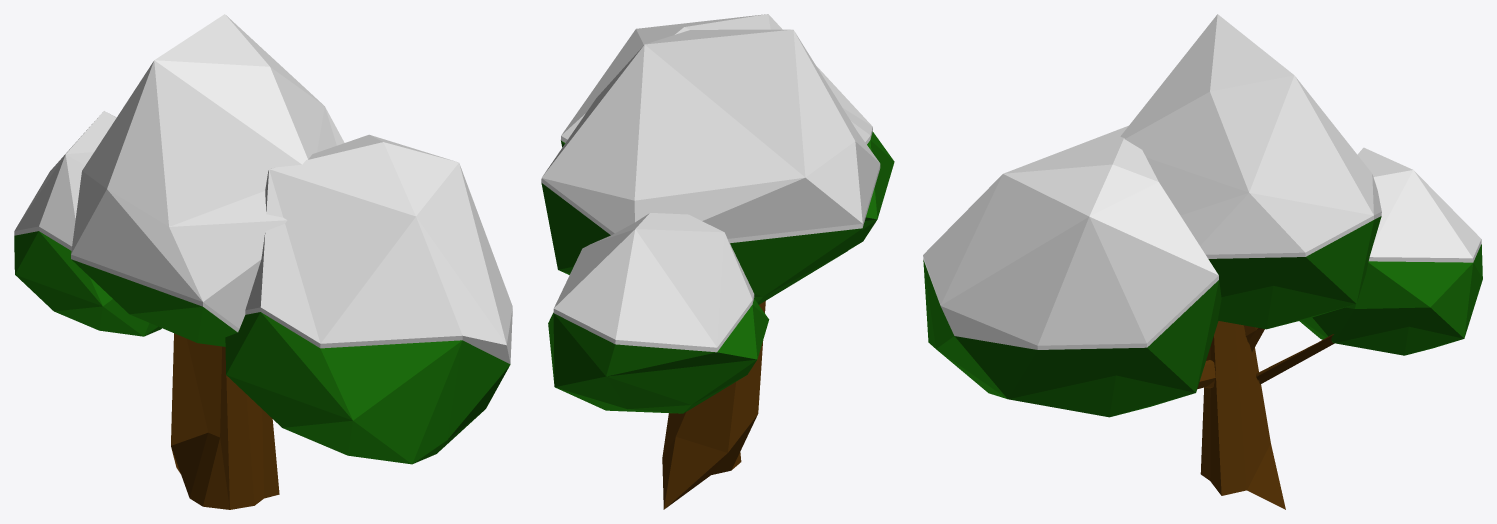
File: Bush#14_Snow.fbx
3 renders of one model, left to right at view 1: azimuth 30°, elevation 25°; view 2: azimuth 150°, elevation 25°; view 3: azimuth 270°, elevation 25°, orthographic. The views are drawn at different scales.
Visible parts, largest first — view 1: Bush#14_Snow; view 2: Bush#14_Snow; view 3: Bush#14_Snow.
Boxes of the visible parts, x1,y1,x2,y2 form: Bush#14_Snow: (14, 14, 512, 509); Bush#14_Snow: (541, 14, 894, 509); Bush#14_Snow: (923, 14, 1482, 509).
Size of the model in its own units: 138 by 191 by 214.
